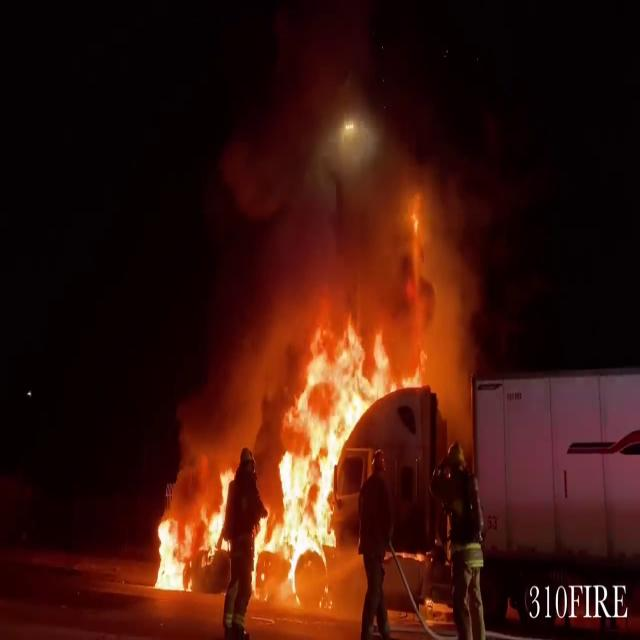Fire: (252, 321, 394, 614), (146, 462, 234, 598)
Smoke: (170, 2, 507, 395)
